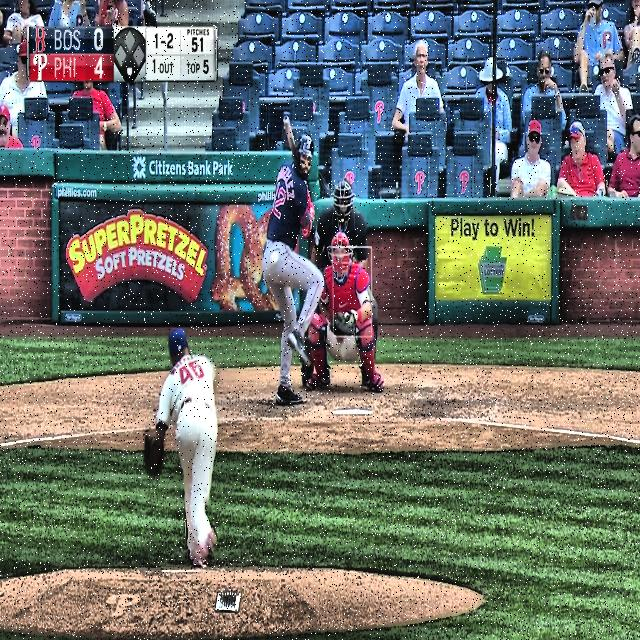baseball: (270, 250, 278, 266)
